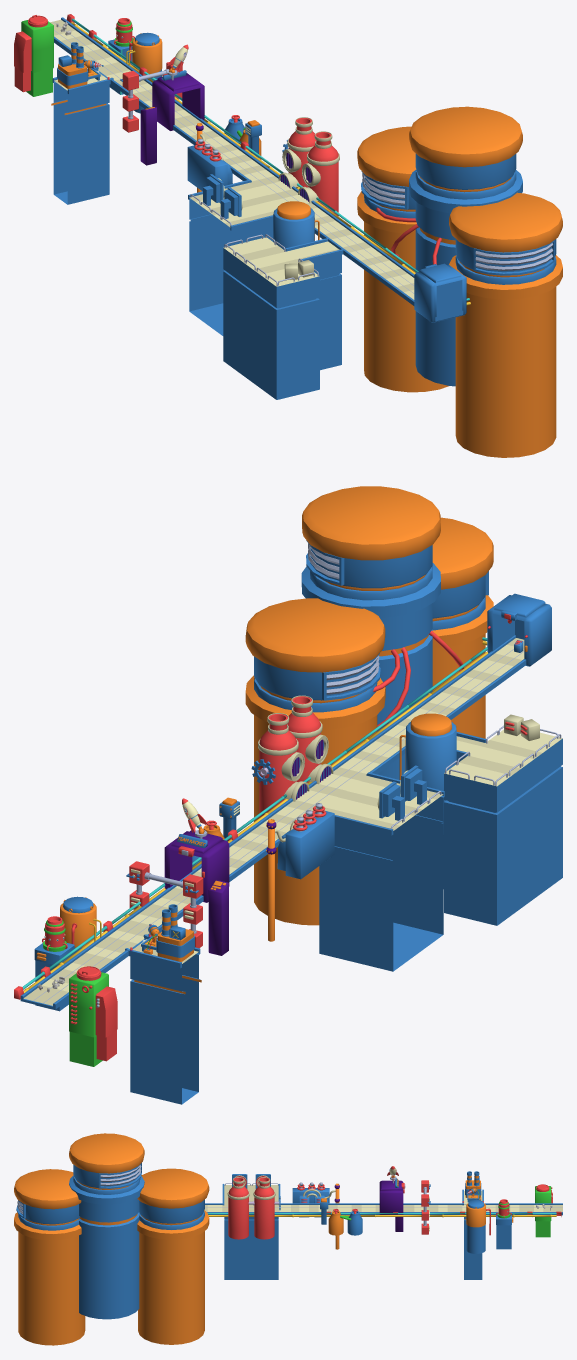
File: TriggerGame_Platform.fbx
3 views of the same model, one above another, from view 1: azimuth 30°, elevation 25°; view 2: azimuth 150°, elevation 25°; view 3: azimuth 270°, elevation 25° (orthographic). The views are drawn at different scales.
Parts seen in each view (by area): view 1: Stage_016, Stage_019, Stage_024, Stage_027, Stage_035, Stage_008, Stage_006, Stage_007, Stage_037, Stage_034, Stage_004, Stage_026 (+9 smaller); view 2: Stage_016, Stage_019, Stage_027, Stage_024, Stage_035, Stage_008, Stage_007, Stage_006, Stage_010, Stage_037, Stage_015, Stage_026 (+10 smaller); view 3: Stage_016, Stage_027, Stage_008, Stage_034, Stage_015, Stage_003, Stage_004, Stage_006, Stage_010, Stage_009, Stage_031, Stage_024 (+5 smaller).
Part boxes in pixels (<box>): Stage_016: <box>357,106,562,457</box>; Stage_019: <box>223,237,343,399</box>; Stage_024: <box>51,66,113,204</box>; Stage_027: <box>188,179,280,335</box>; Stage_035: <box>238,165,414,299</box>; Stage_008: <box>50,19,259,170</box>; Stage_006: <box>140,73,204,165</box>; Stage_007: <box>14,15,53,96</box>; Stage_037: <box>414,263,466,322</box>; Stage_034: <box>298,131,339,216</box>; Stage_004: <box>66,14,470,305</box>; Stage_026: <box>273,201,319,249</box>; Stage_016: <box>245,486,493,925</box>; Stage_019: <box>443,729,562,925</box>; Stage_027: <box>319,772,444,971</box>; Stage_024: <box>125,934,201,1104</box>; Stage_035: <box>268,638,524,824</box>; Stage_008: <box>23,819,290,1005</box>; Stage_007: <box>69,966,117,1066</box>; Stage_006: <box>164,830,229,955</box>; Stage_010: <box>266,803,334,941</box>; Stage_037: <box>487,593,551,666</box>; Stage_015: <box>258,713,309,817</box>; Stage_026: <box>399,713,456,835</box>; Stage_016: <box>14,1133,209,1345</box>; Stage_027: <box>222,1184,280,1279</box>; Stage_008: <box>299,1205,562,1211</box>; Stage_034: <box>227,1177,254,1239</box>; Stage_015: <box>253,1177,279,1239</box>; Stage_003: <box>466,1200,490,1253</box>; Stage_004: <box>207,1211,561,1217</box>; Stage_006: <box>379,1180,405,1231</box>; Stage_010: <box>292,1182,339,1249</box>; Stage_009: <box>496,1199,513,1249</box>; Stage_031: <box>328,1209,362,1235</box>; Stage_024: <box>462,1189,483,1279</box>.
Bounding box in the file's own units: 6470 × 7748 × 20903.
